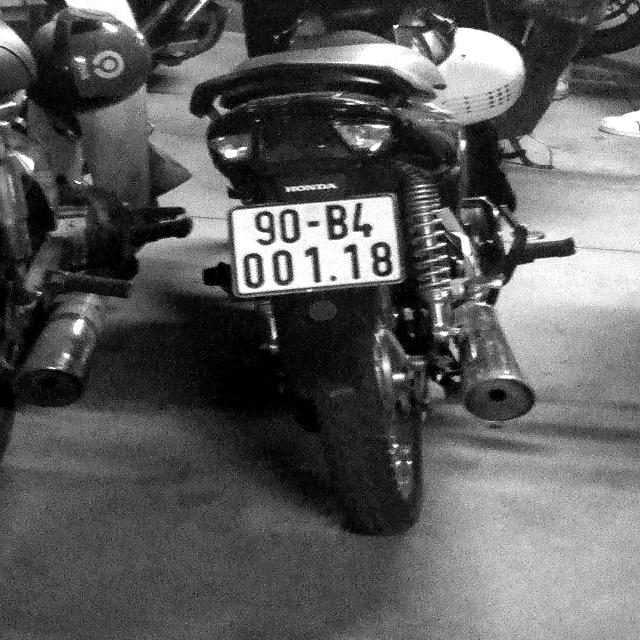license_plate: (230, 196, 407, 295)
